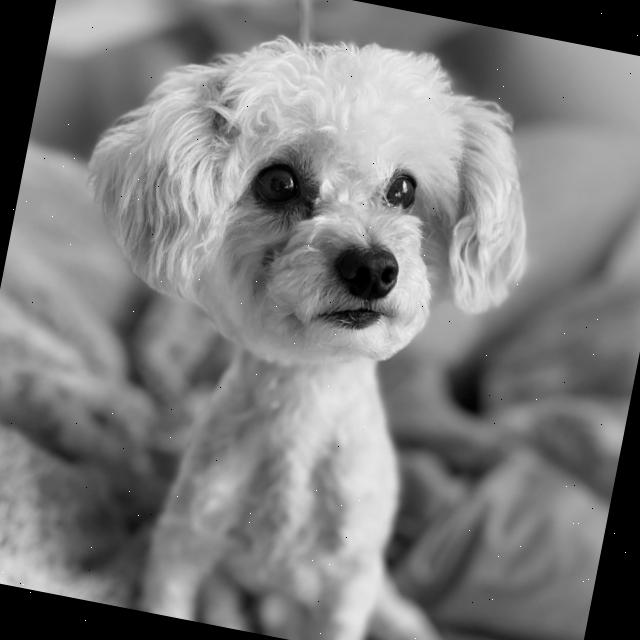Poodle_dog: (47, 0, 572, 440)
